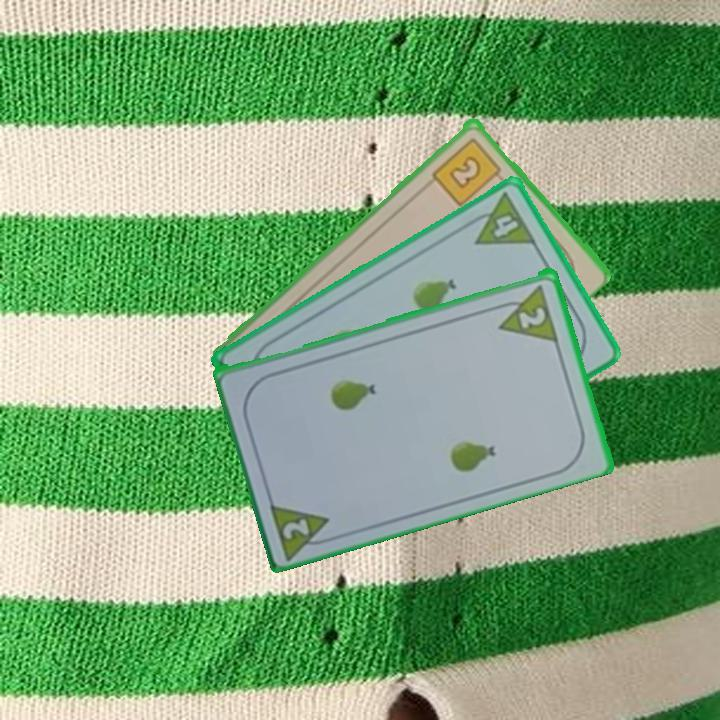2b: (428, 133, 508, 209)
2p: (490, 280, 561, 344), (279, 514, 313, 542)
4p: (461, 189, 539, 248)
